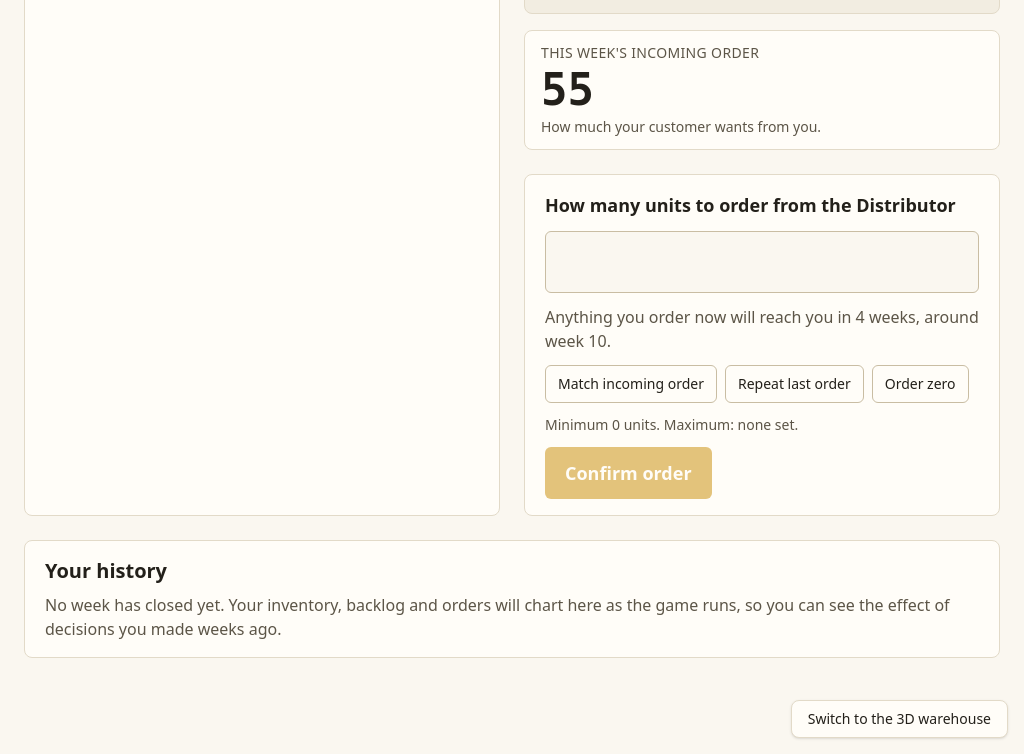
it: CRITERION 12: the three quick-fill buttons fill the right numbers › "Order zero" fills 0
The image size is (1024, 754).
(page scrolled)
Click the button "Order zero" at (920, 384), box [872,365,968,403]
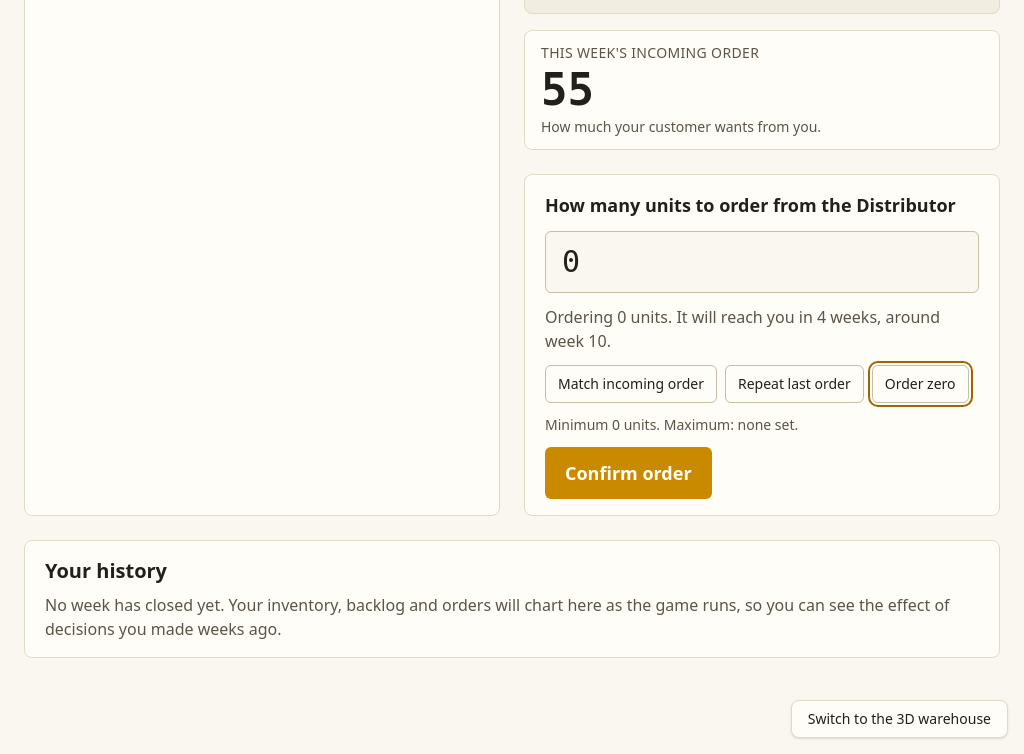
Expected: the number field labelled "How many units to order from the Distributor" holds "0", [545,231,979,293]
